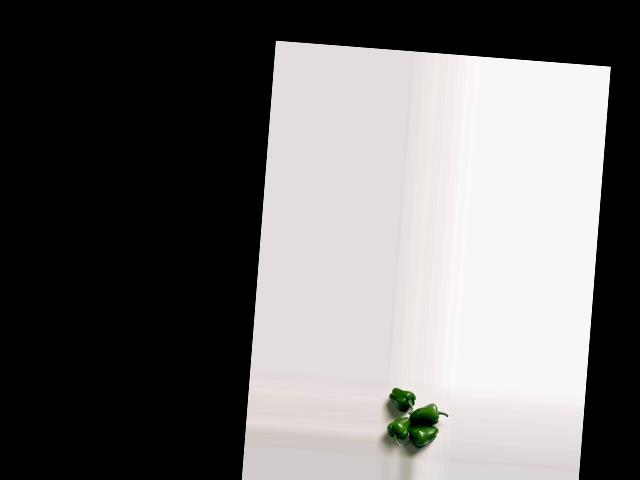bell_pepper: (386, 414, 409, 445)
